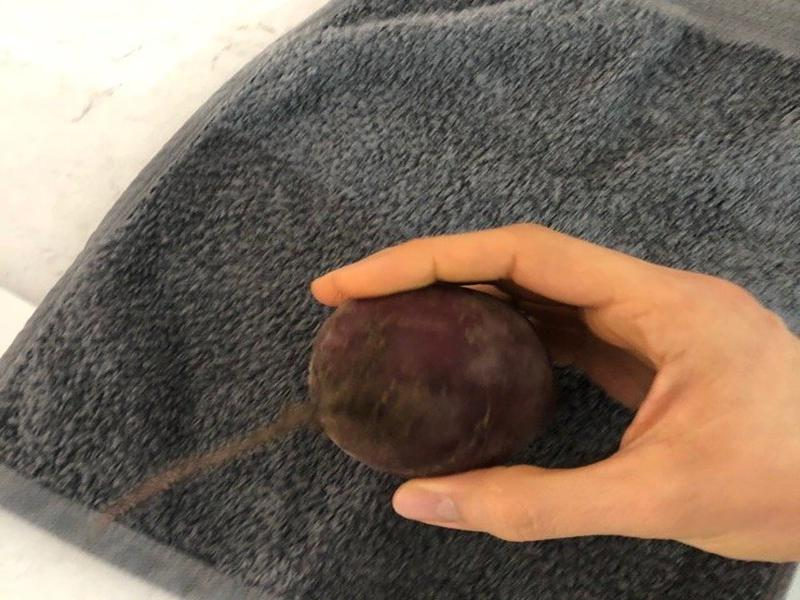Beet: (310, 285, 555, 477)
